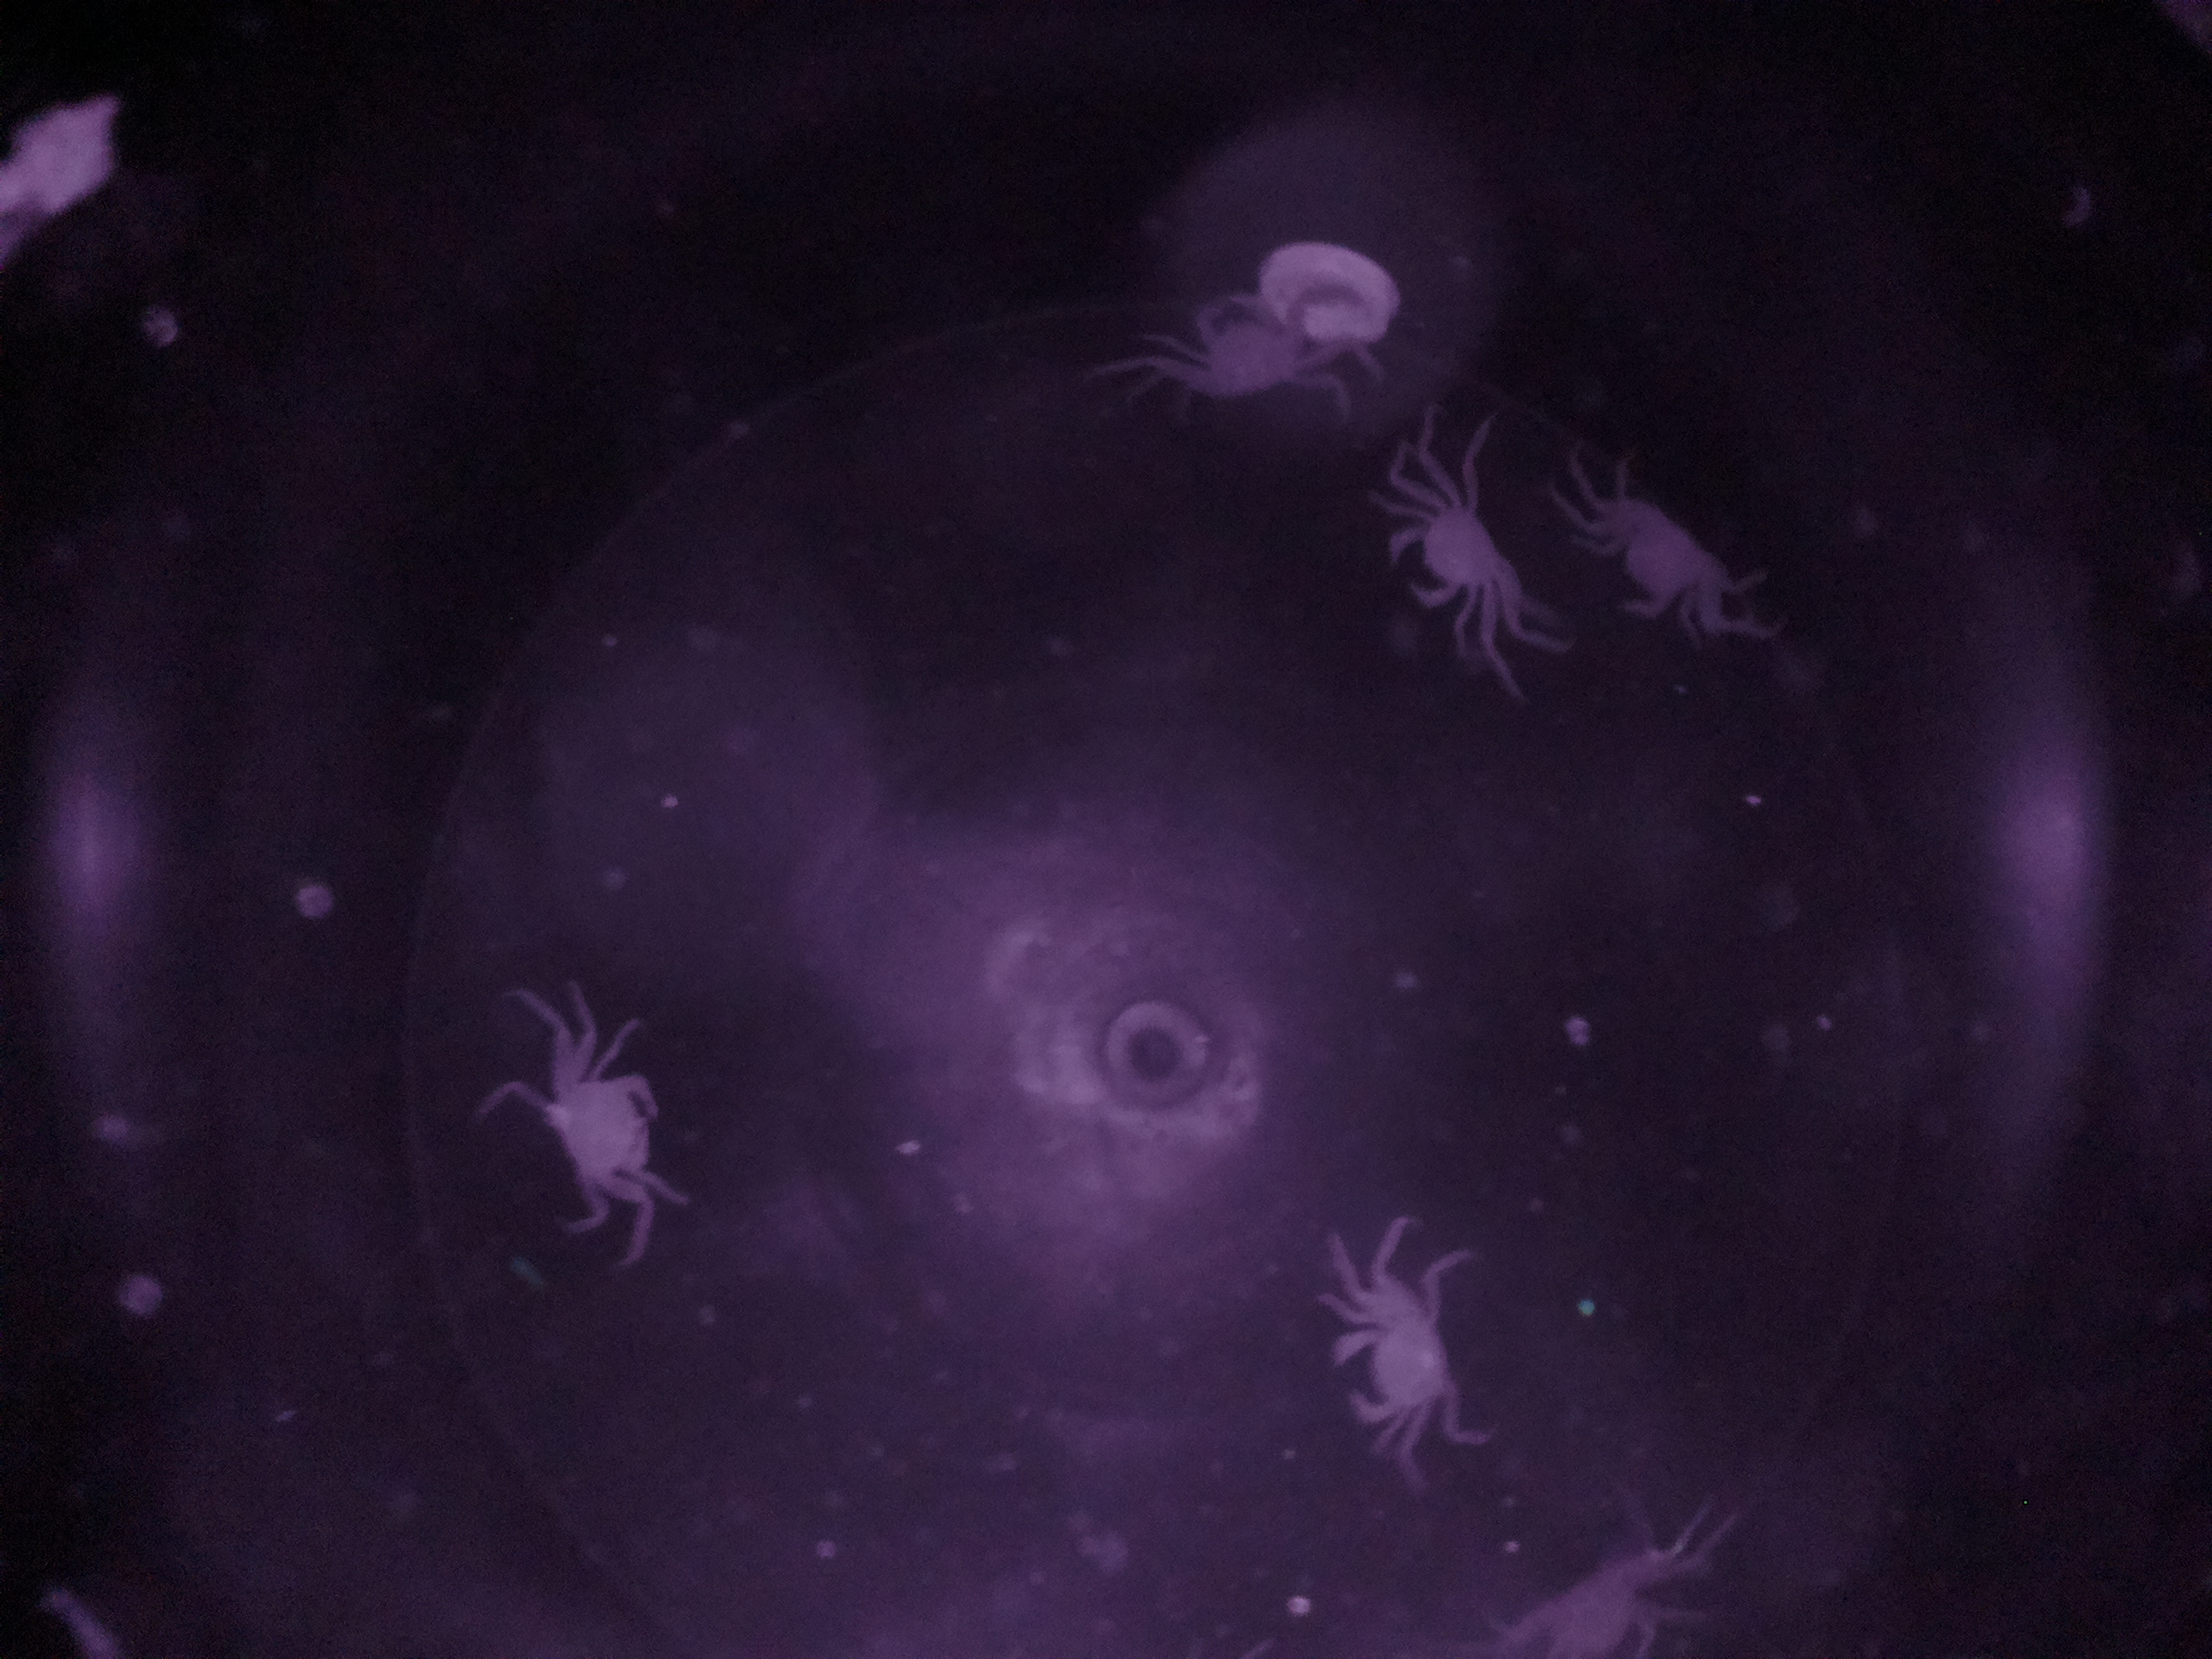Crab: (500, 1028, 676, 1244), (1306, 1258, 1484, 1471), (1392, 467, 1515, 655)
